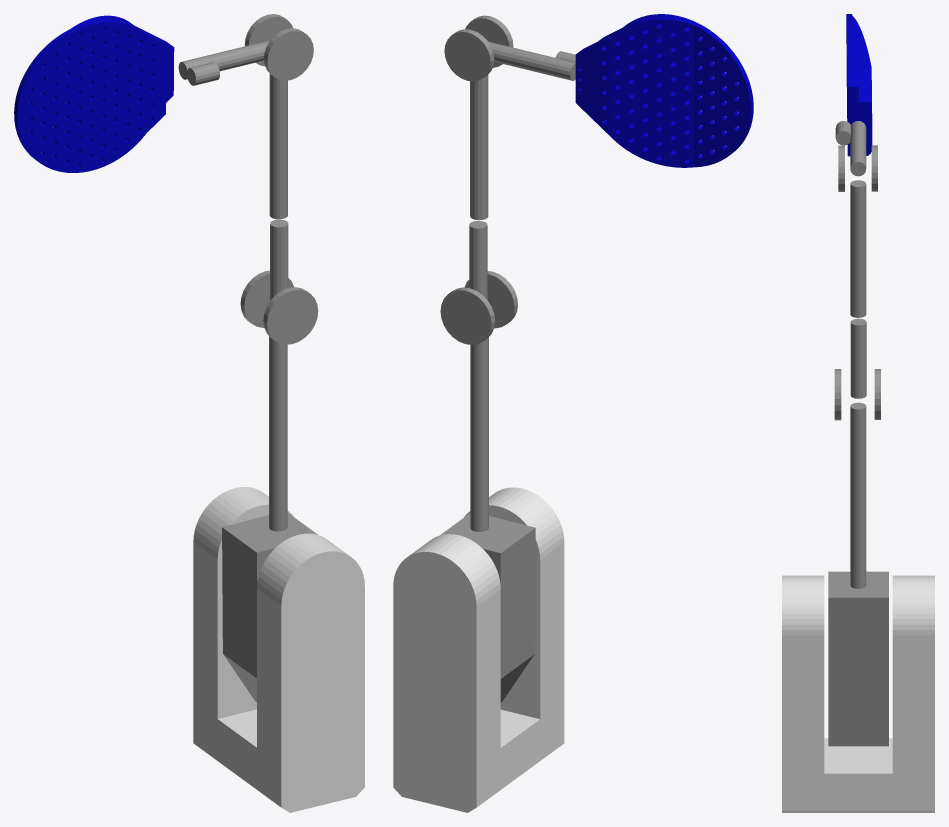
Rendered from x6.rounded.dae.
3 views of the same model, side by side, from view 1: azimuth 30°, elevation 25°; view 2: azimuth 150°, elevation 25°; view 3: azimuth 270°, elevation 25° (orthographic). The views are drawn at different scales.
Parts seen in each view (by area): view 1: x6_link1, x6_toolframe, x6_link2, x6_link3, x6_link5, x6_link4; view 2: x6_link1, x6_toolframe, x6_link2, x6_link3, x6_link5, x6_link4; view 3: x6_link1, x6_link2, x6_toolframe, x6_link4, x6_link3, x6_link5, x6_link6.
Part boxes in pixels (x1,y1,x2,y2): x6_link1: (193, 487, 364, 812); x6_toolframe: (14, 15, 174, 172); x6_link2: (222, 336, 317, 702); x6_link3: (240, 219, 318, 344); x6_link5: (178, 14, 313, 80); x6_link4: (269, 73, 287, 219); x6_link1: (393, 487, 564, 812); x6_toolframe: (575, 14, 753, 167); x6_link2: (440, 337, 535, 702); x6_link3: (440, 221, 517, 344); x6_link5: (444, 15, 575, 81); x6_link4: (470, 75, 488, 220); x6_link1: (782, 575, 934, 812); x6_link2: (828, 402, 888, 746); x6_toolframe: (846, 14, 872, 156); x6_link4: (850, 180, 866, 317); x6_link3: (834, 318, 880, 420); x6_link5: (838, 121, 877, 191); x6_link6: (835, 121, 850, 145).
Size of what is drawn, in the model's own units: 0.3881 by 0.1906 by 0.9564.
